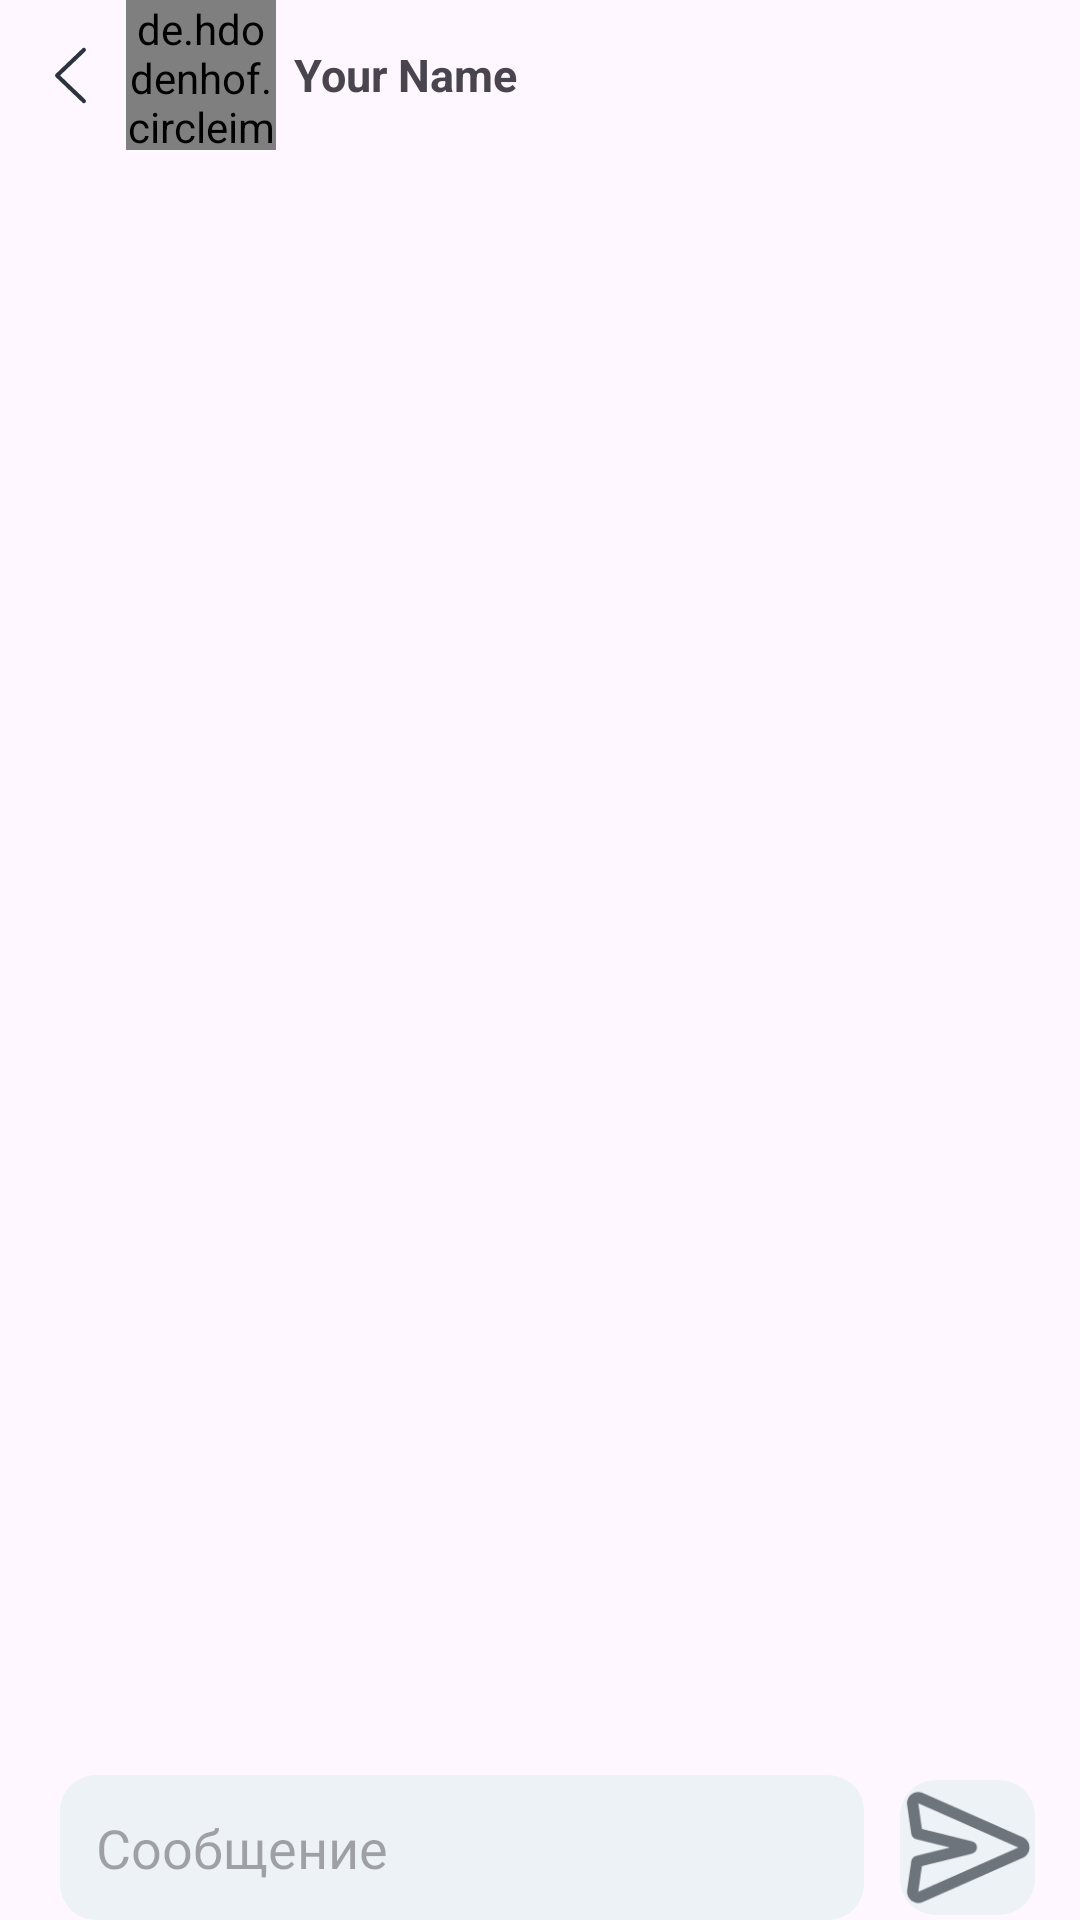

Named icons in this screenshot (1080 × 1920) and their bounding boxes, box(x1, y1, x2, y2):
back: box(55, 47, 86, 104)
send message: box(900, 1780, 1035, 1915)
